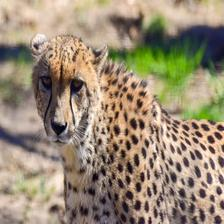Cheetah: (31, 32, 224, 224)
